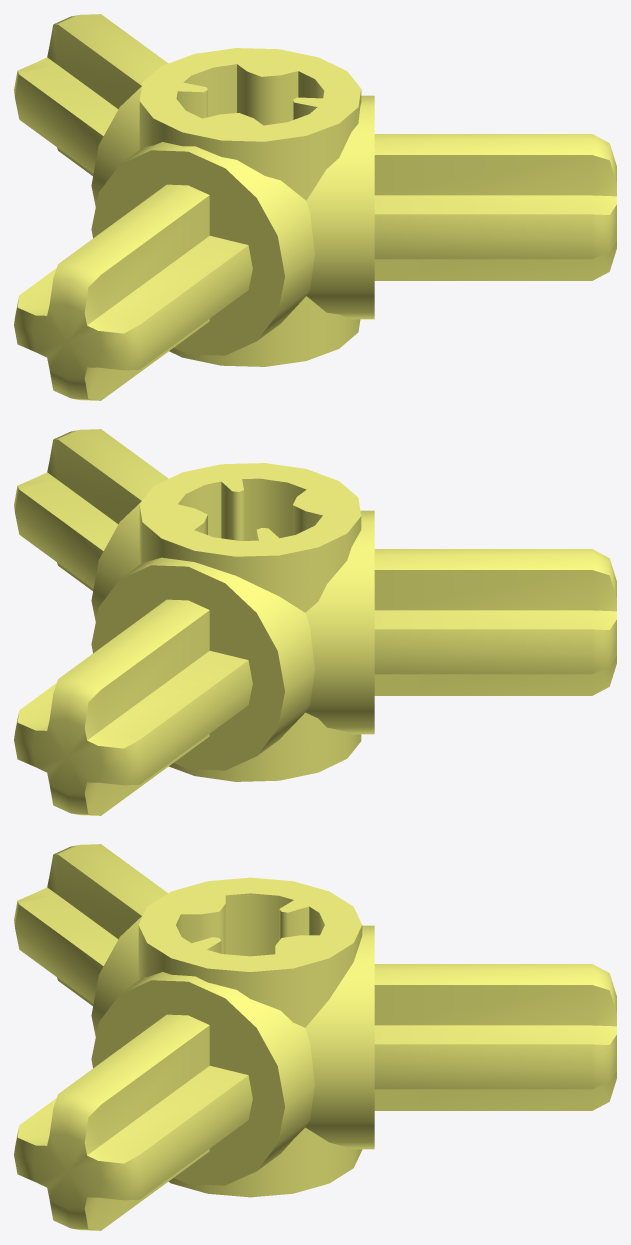
The picture shows the model from 3 angles, top to bottom: view 1: azimuth 30°, elevation 25°; view 2: azimuth 150°, elevation 25°; view 3: azimuth 270°, elevation 25°; orthographic projection.
Parts seen in each view (by area): view 1: 57585.dat; view 2: 57585.dat; view 3: 57585.dat.
Part boxes in pixels (x1,y1,x2,y2): 57585.dat: [14, 14, 616, 400]; 57585.dat: [14, 429, 616, 815]; 57585.dat: [14, 844, 616, 1230].
Size of the model in its own units: 0.0221 by 0.008 by 0.0194.
